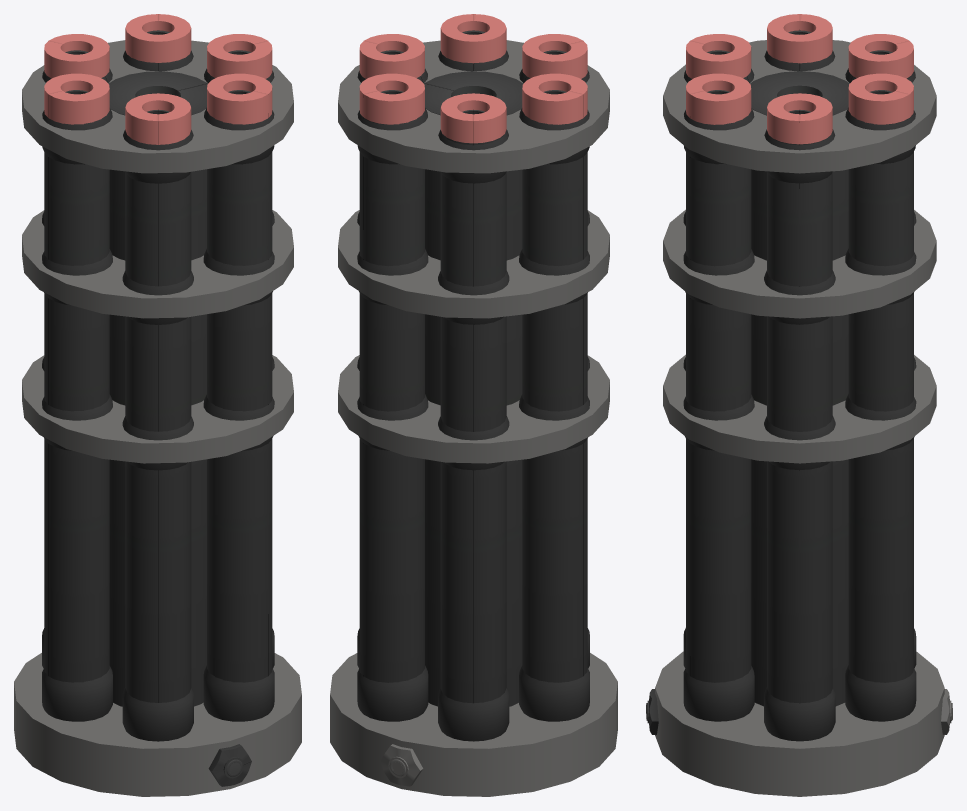
File: machinegun.fbx
The picture shows the model from 3 angles, left to right: view 1: azimuth 30°, elevation 25°; view 2: azimuth 150°, elevation 25°; view 3: azimuth 270°, elevation 25°; orthographic projection.
Parts seen in each view (by area): view 1: pPipe15, pPipe16, pPipe14, pPipe17, middleline, pPipe18, pPipe20, pPipe19, pPipe22 (×4), pPipe23 (×4), pPipe21 (×4), pPipe12 (+4 smaller); view 2: pPipe13, pPipe12, pPipe14, pPipe17, middleline, pPipe18, pPipe20, pPipe19, pPipe26 (×4), pPipe25 (×4), pPipe21 (×4), pPipe16 (+4 smaller); view 3: pPipe1, pPipe12, pPipe16, pPipe17, middleline, pPipe18, pPipe20, pPipe19, pPipe24 (×4), pPipe23 (×4), pPipe25 (×4), pPipe14 (+3 smaller).
Part boxes in pixels (x1,y1,x2,y2): pPipe15: (125,93,191,702); pPipe16: (207,73,272,682); pPipe14: (44,73,109,682); pPipe17: (14,653,301,796); middleline: (108,71,207,706); pPipe18: (22,40,293,173); pPipe20: (22,355,293,463); pPipe19: (22,210,293,318); pPipe22 (×4): (122,109,193,741); pPipe23 (×4): (203,90,274,721); pPipe21 (×4): (42,90,112,721); pPipe12: (125,14,191,62); pPipe13: (440,93,506,703); pPipe12: (359,73,424,717); pPipe14: (522,73,587,682); pPipe17: (330,653,617,796); middleline: (424,71,523,706); pPipe18: (338,40,609,173); pPipe20: (338,355,609,463); pPipe19: (338,210,609,318); pPipe26 (×4): (438,109,509,741); pPipe25 (×4): (357,90,428,721); pPipe21 (×4): (519,90,589,721); pPipe16: (440,14,506,63); pPipe1: (767,93,832,741); pPipe12: (848,73,913,717); pPipe16: (686,73,751,682); pPipe17: (655,651,944,796); middleline: (750,71,849,706); pPipe18: (663,40,936,173); pPipe20: (663,354,936,463); pPipe19: (663,209,936,318); pPipe24 (×4): (764,110,835,741); pPipe23 (×4): (683,90,754,721); pPipe25 (×4): (845,90,916,721); pPipe14: (767,14,832,63).
Bounding box in the file's own units: 30.76 × 78.36 × 32.62.
